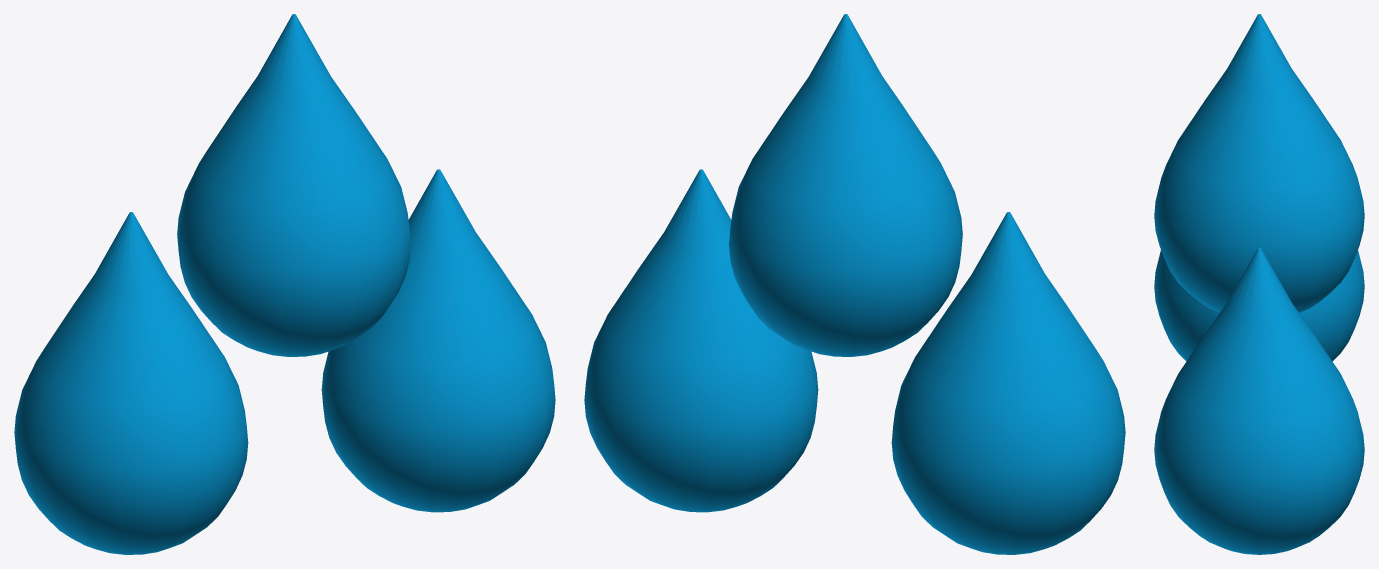
The model's file is water_drop.glb.
The picture shows the model from 3 angles, left to right: view 1: azimuth 30°, elevation 25°; view 2: azimuth 150°, elevation 25°; view 3: azimuth 270°, elevation 25°; orthographic projection. The views are drawn at different scales.
Parts seen in each view (by area): view 1: pSphere4_0; view 2: pSphere4_0; view 3: pSphere4_0.
Part boxes in pixels (left/top/right/bottom): pSphere4_0: left=14, top=14, right=555, bottom=554; pSphere4_0: left=584, top=14, right=1125, bottom=554; pSphere4_0: left=1154, top=14, right=1364, bottom=554.
Size of the model in its own units: 5.02 by 4.9 by 2.
